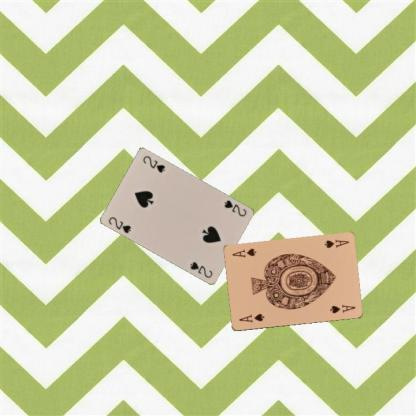2s: (106, 214, 132, 235), (222, 198, 248, 218)
As: (236, 312, 266, 324), (322, 237, 349, 249)
